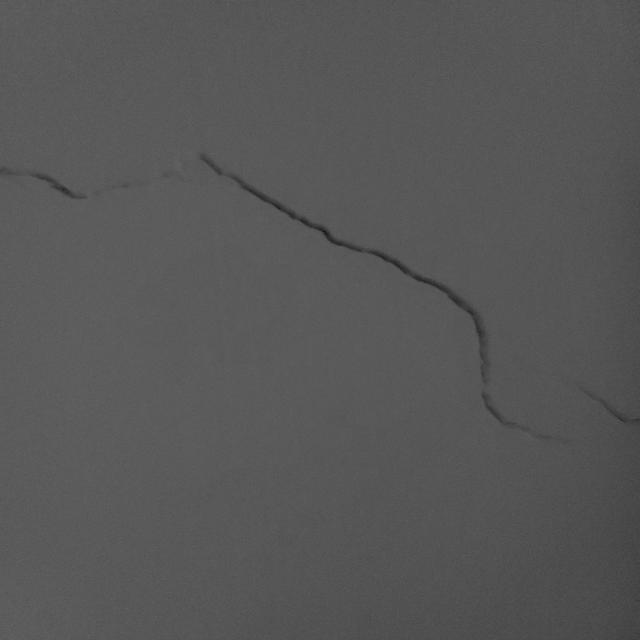rough and patchy surface: (6, 108, 640, 436)
